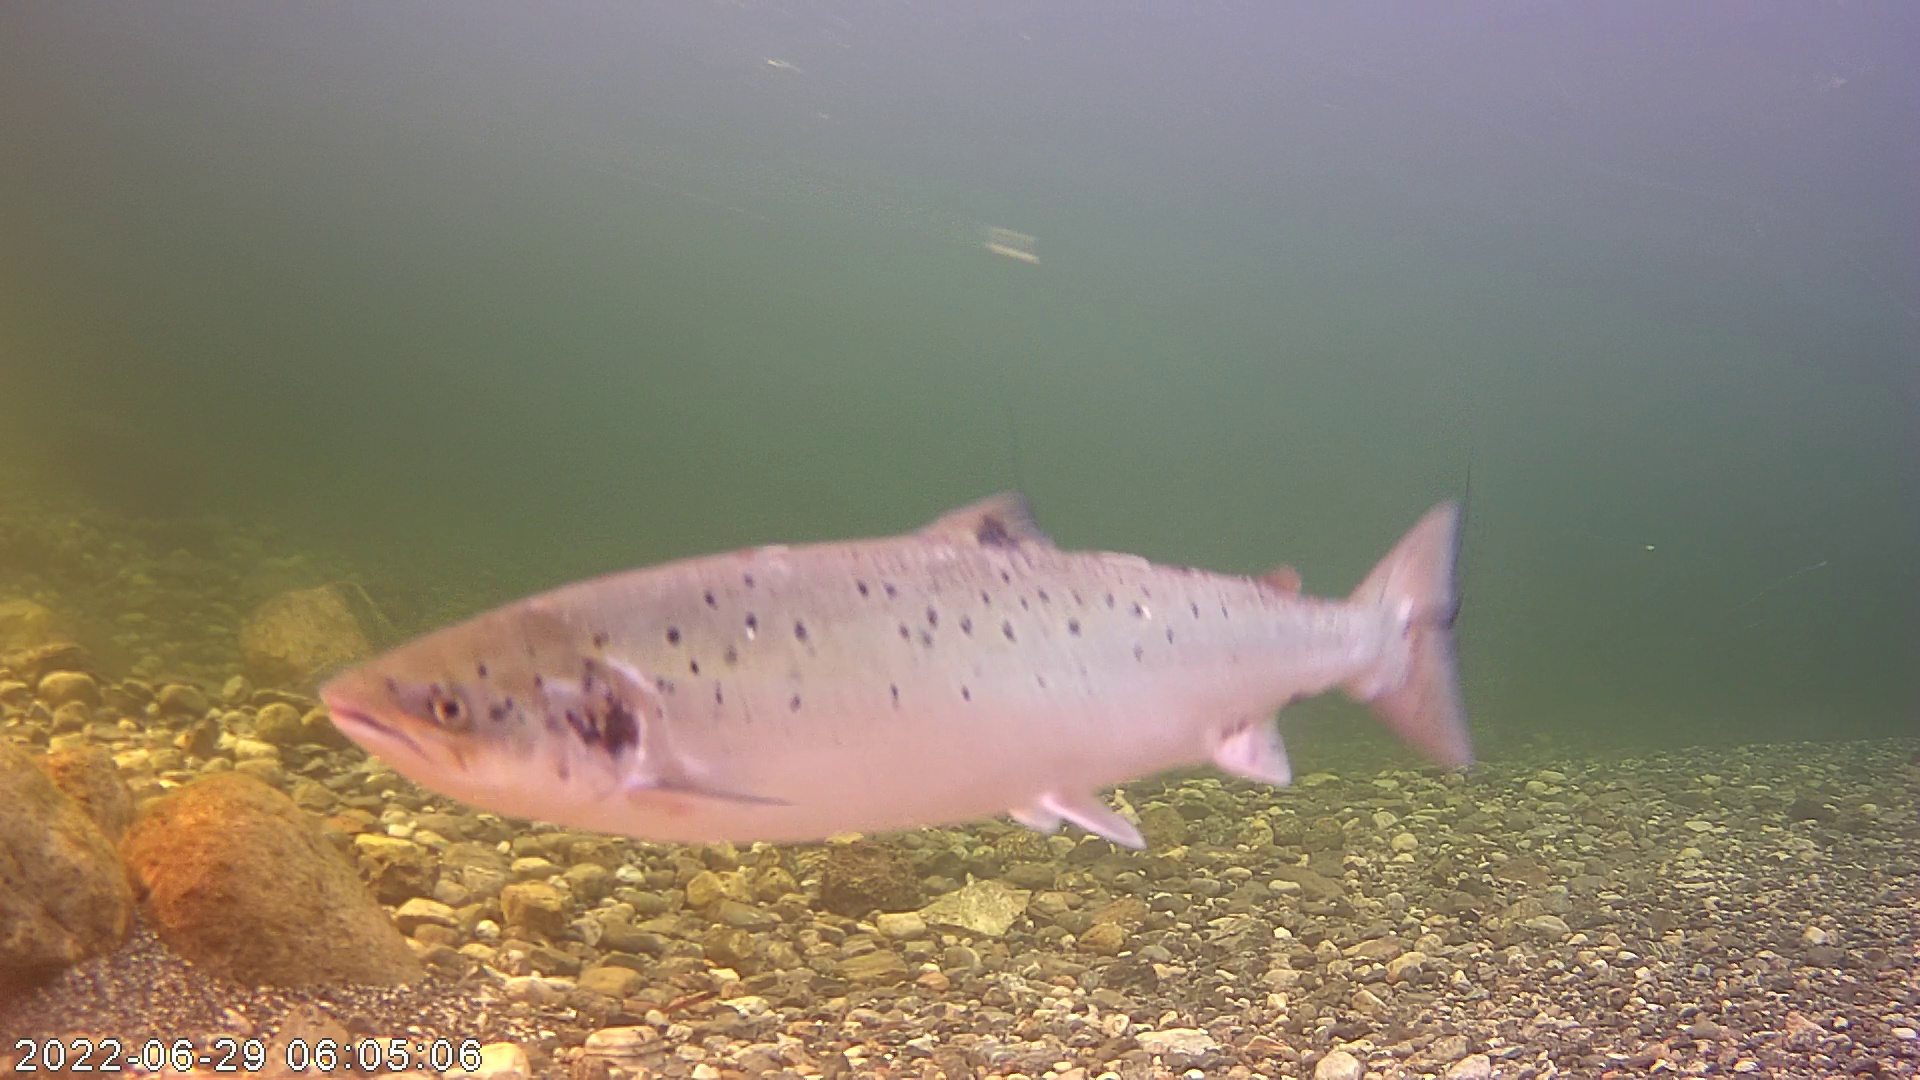salmon: (307, 400, 1469, 861)
